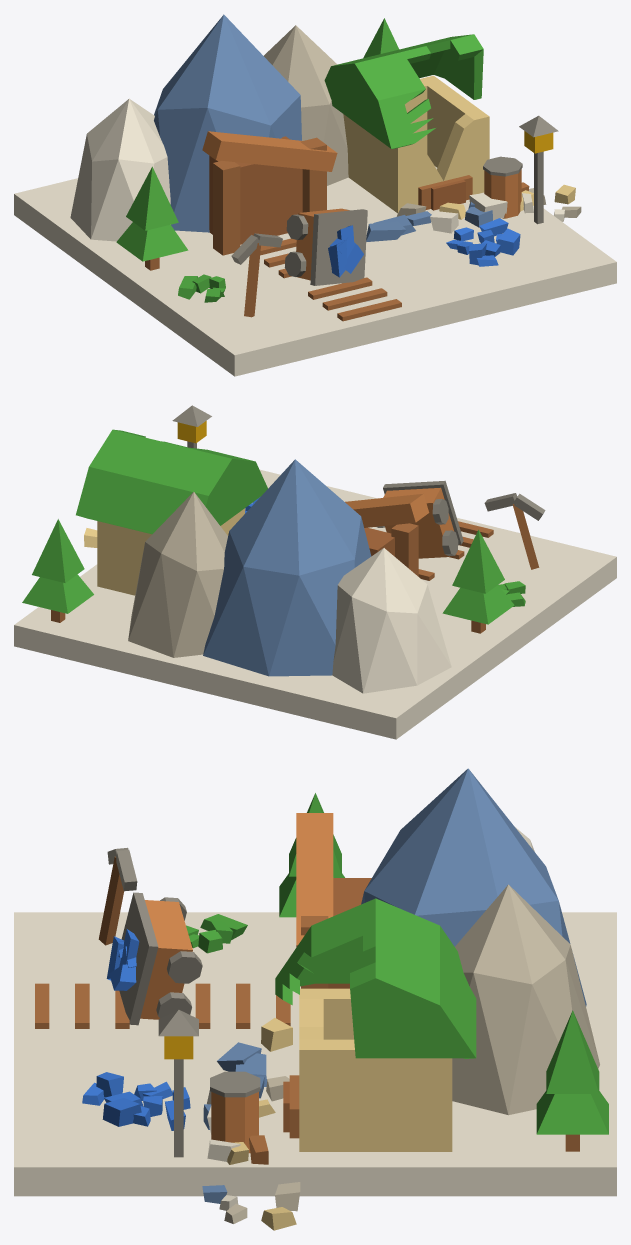
Rendered from mine_t2_v3_dmg1.glb.
The picture shows the model from 3 angles, top to bottom: view 1: azimuth 30°, elevation 25°; view 2: azimuth 150°, elevation 25°; view 3: azimuth 270°, elevation 25°; orthographic projection. The views are drawn at different scales.
Visible parts, largest first — view 1: mine_t2_v3_dmg1; view 2: mine_t2_v3_dmg1; view 3: mine_t2_v3_dmg1.
Part boxes in pixels (x1=…): mine_t2_v3_dmg1: x1=14, y1=14, x2=616, y2=376; mine_t2_v3_dmg1: x1=14, y1=405, x2=616, y2=739; mine_t2_v3_dmg1: x1=14, y1=768, x2=616, y2=1230.
Bounding box in the file's own units: 0.855 × 0.38 × 0.75.
Materials: 1 (1 with a texture image).
